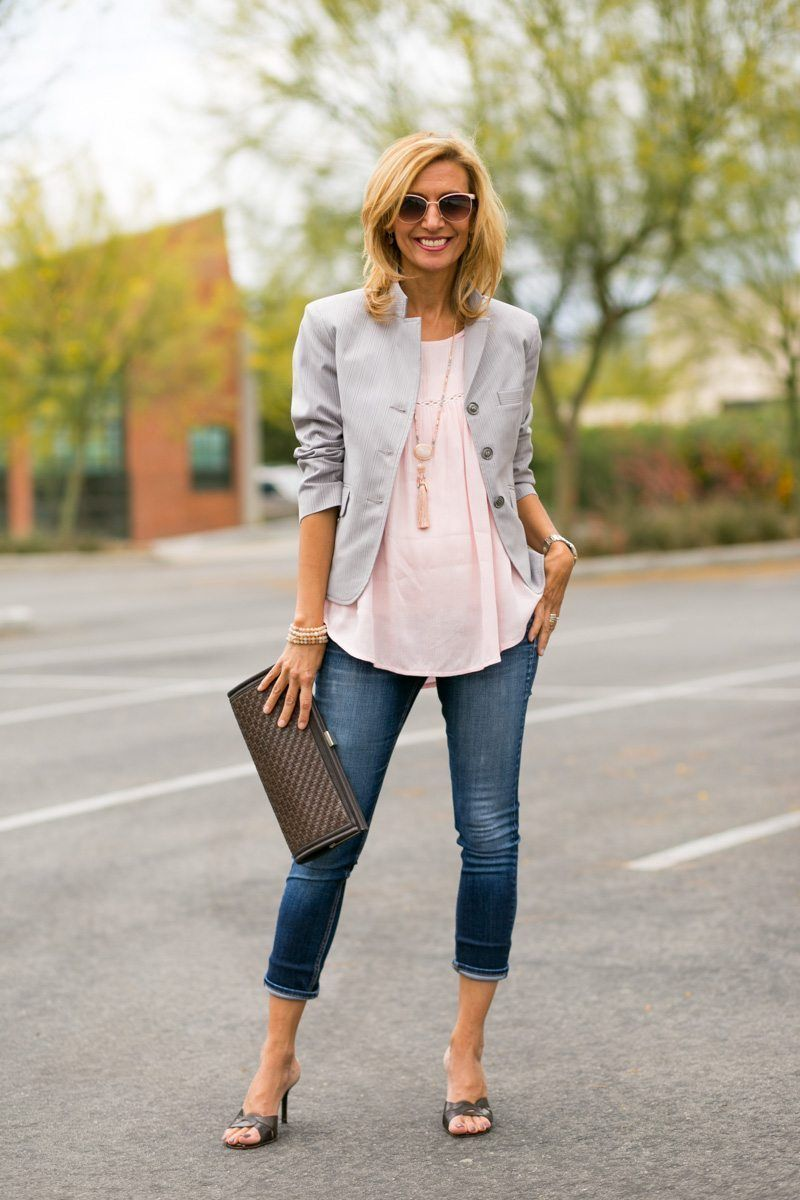F_W_suit jacket: (266, 271, 566, 642)
